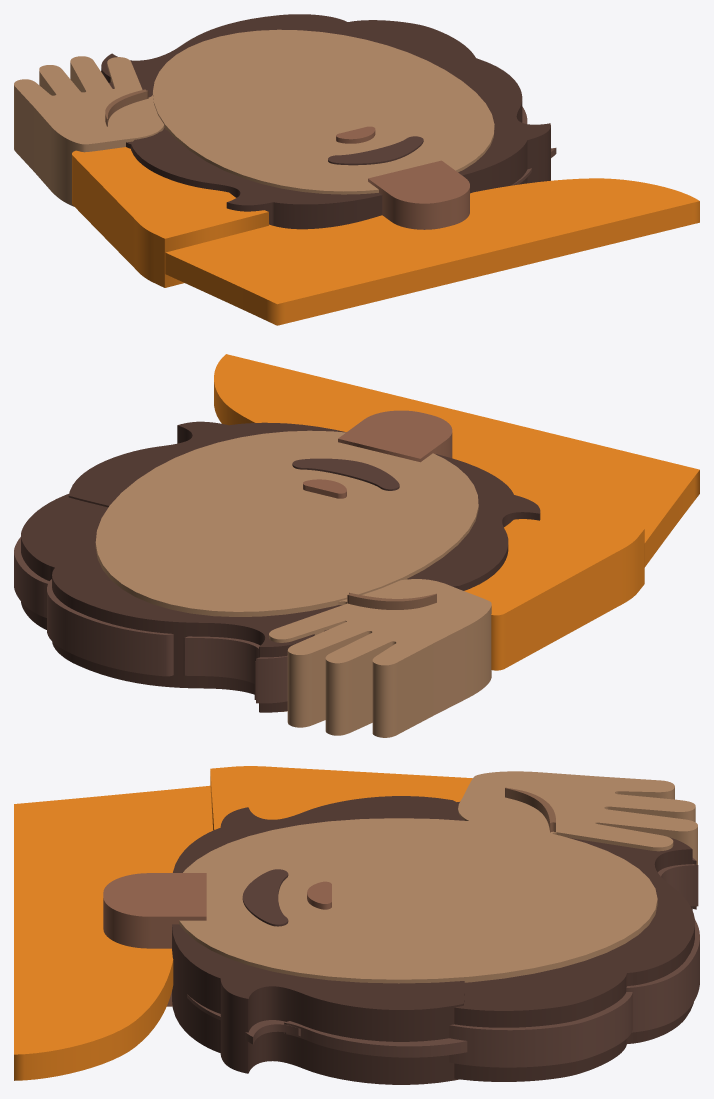
Rendered from emoji_u1f64b_1f3fd.glb.
The picture shows the model from 3 angles, top to bottom: view 1: azimuth 30°, elevation 25°; view 2: azimuth 150°, elevation 25°; view 3: azimuth 270°, elevation 25°; orthographic projection. The views are drawn at different scales.
Visible parts, largest first — view 1: emoji_u1f64b_1f3fd; view 2: emoji_u1f64b_1f3fd; view 3: emoji_u1f64b_1f3fd.
Part boxes in pixels (x1=…): emoji_u1f64b_1f3fd: x1=14, y1=14, x2=699, y2=325; emoji_u1f64b_1f3fd: x1=14, y1=354, x2=699, y2=737; emoji_u1f64b_1f3fd: x1=14, y1=766, x2=699, y2=1084.
Bounding box in the file's own units: 0.0312 × 0.0052 × 0.0332.
